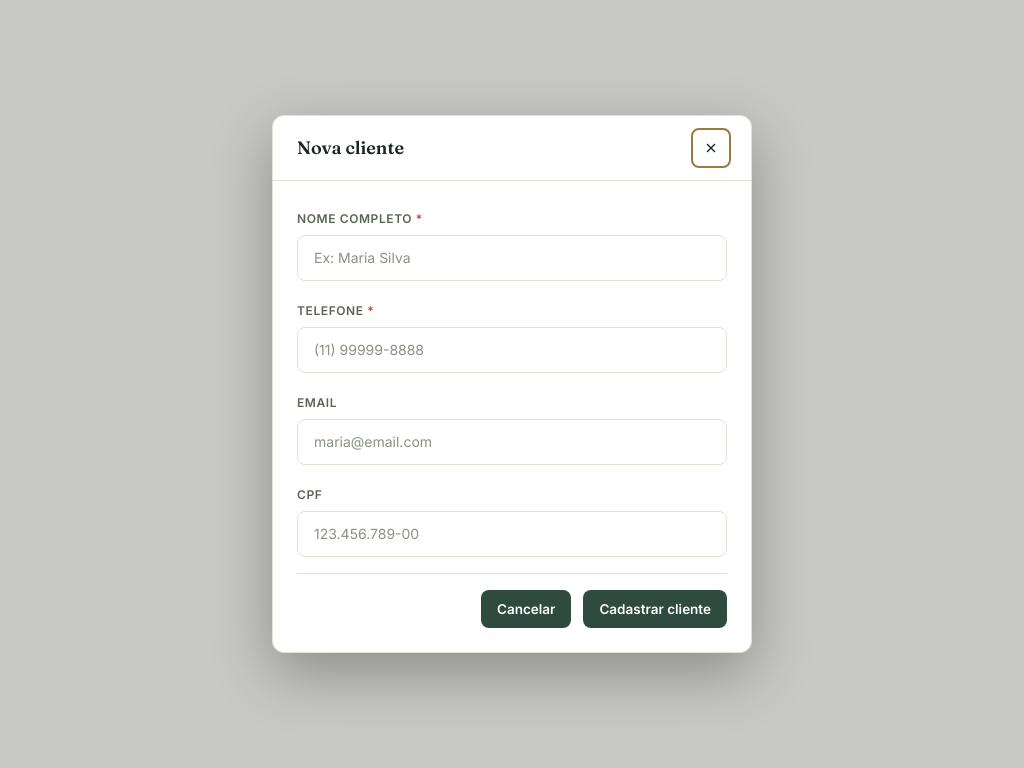
it: CadastroModal › deve mostrar toast de erro ao submeter sem telefone
Type "Maria Silva" into the field with placeholder "Ex: Maria Silva" at point(512, 258), box [297,235,727,281]
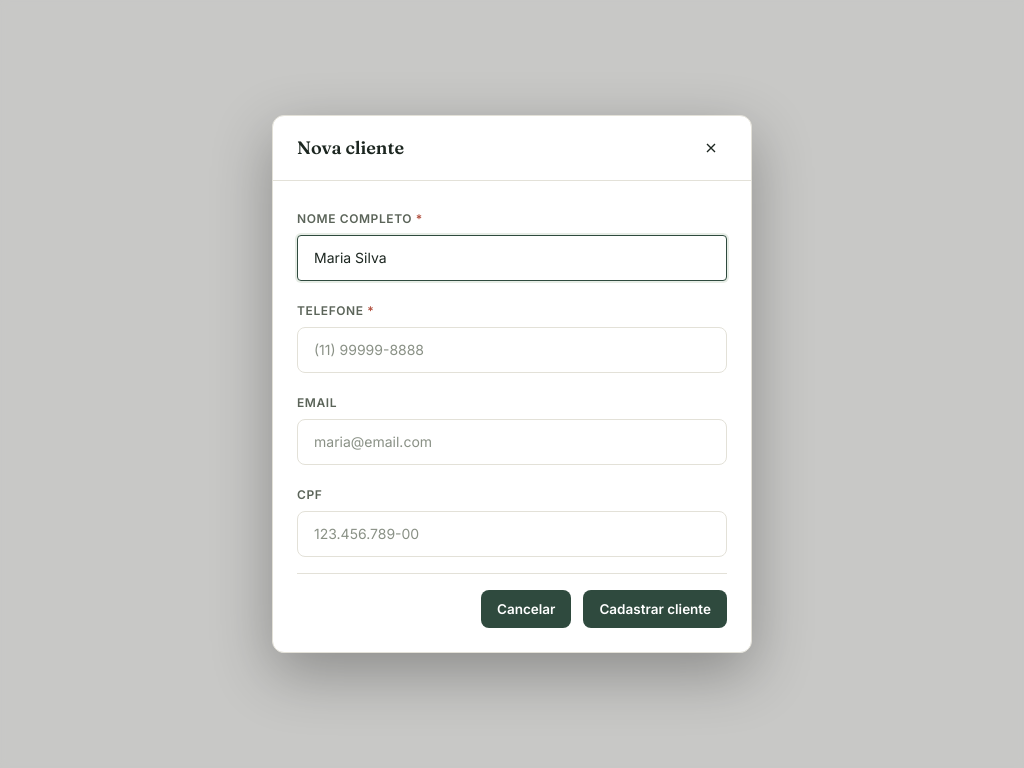
Click the button "Cadastrar cliente" at point(655, 609), box [583,590,727,628]
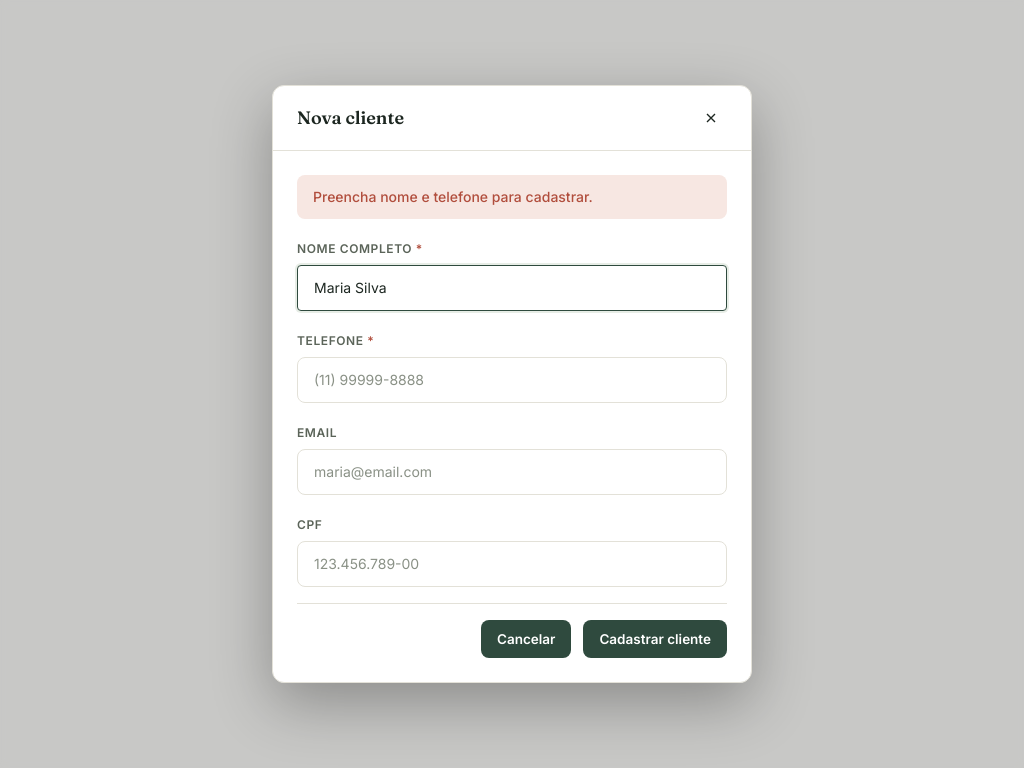
Now the text "Preencha nome e telefone para cadastrar." is shown, box [297,175,727,219]
